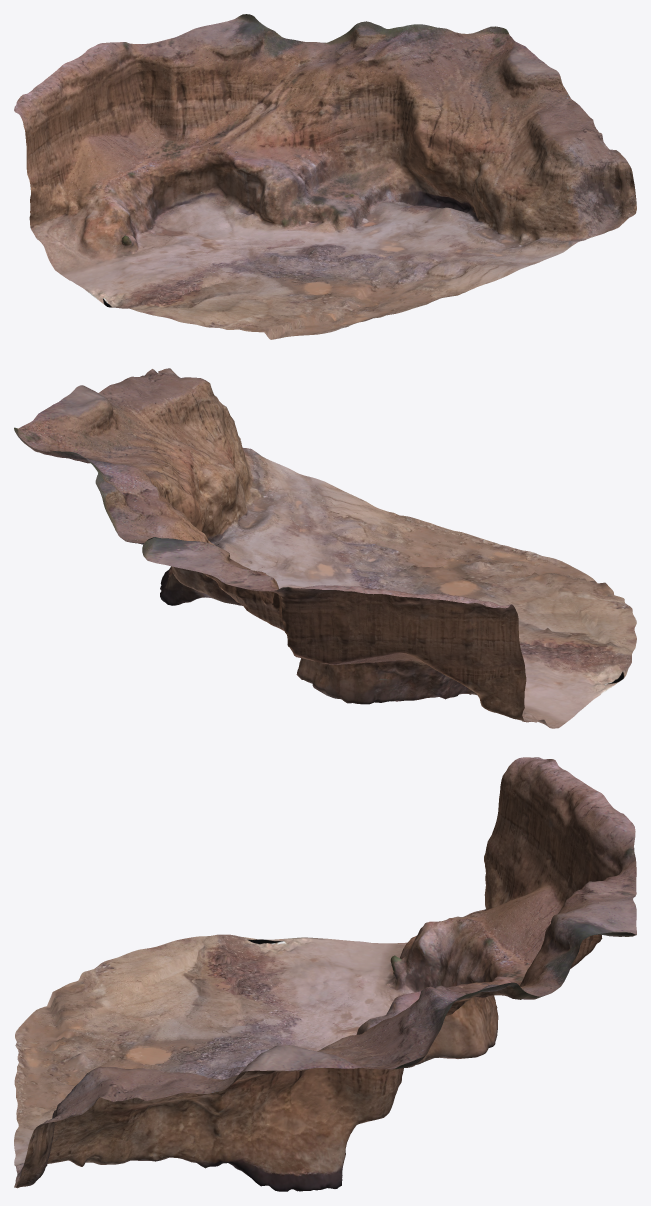
3 renders of one model, top to bottom at view 1: azimuth 30°, elevation 25°; view 2: azimuth 150°, elevation 25°; view 3: azimuth 270°, elevation 25°, orthographic. The views are drawn at different scales.
Visible parts, largest first — view 1: OpenPitMine_Material.006_0; view 2: OpenPitMine_Material.006_0; view 3: OpenPitMine_Material.006_0.
Part boxes in pixels (x1,y1,x2,y2): OpenPitMine_Material.006_0: [14, 14, 636, 339]; OpenPitMine_Material.006_0: [14, 368, 636, 728]; OpenPitMine_Material.006_0: [14, 757, 636, 1191].
Bounding box in the file's own units: 114 × 35.22 × 95.03.
Materials: 1 (1 with a texture image).
